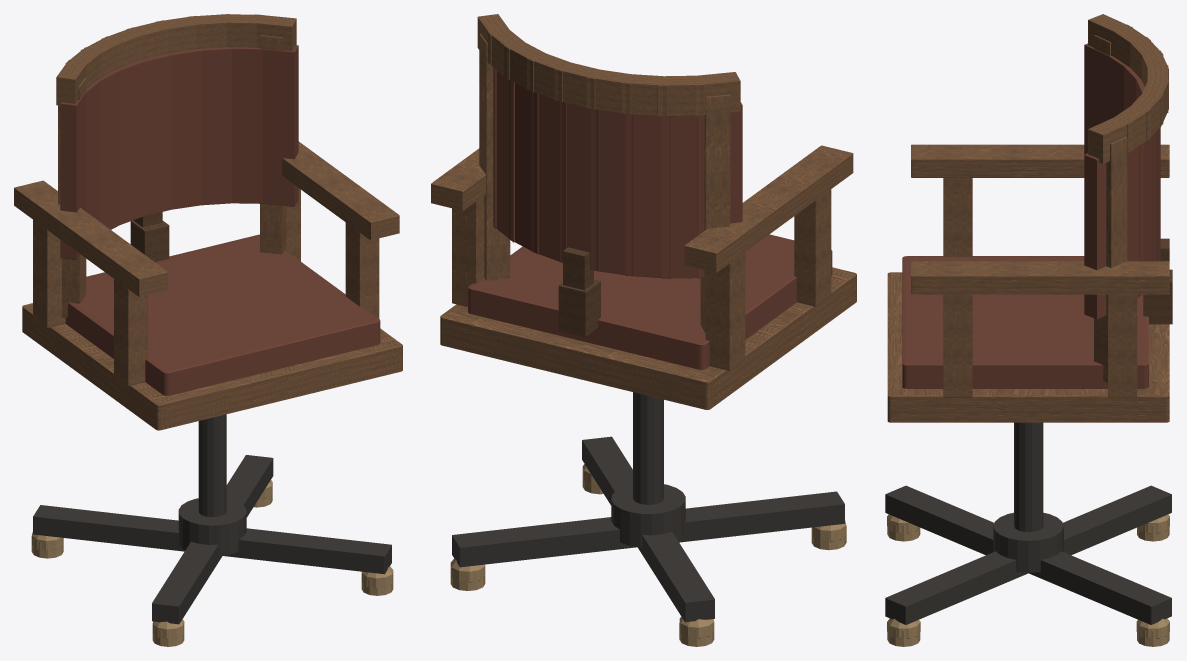
The model's file is oldchair.glb.
3 renders of one model, left to right at view 1: azimuth 30°, elevation 25°; view 2: azimuth 150°, elevation 25°; view 3: azimuth 270°, elevation 25°, orthographic. The views are drawn at different scales.
Visible parts, largest first — view 1: m10_oldchair; view 2: m10_oldchair; view 3: m10_oldchair.
Part boxes in pixels (x1=…): m10_oldchair: x1=14, y1=14, x2=402, y2=646; m10_oldchair: x1=431, y1=14, x2=856, y2=646; m10_oldchair: x1=885, y1=14, x2=1172, y2=646.
Bounding box in the file's own units: 0.53 × 0.9675 × 0.4887.
Materials: 5 (2 with a texture image).
